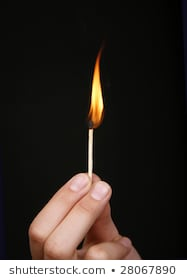Fire: (86, 49, 107, 129)
